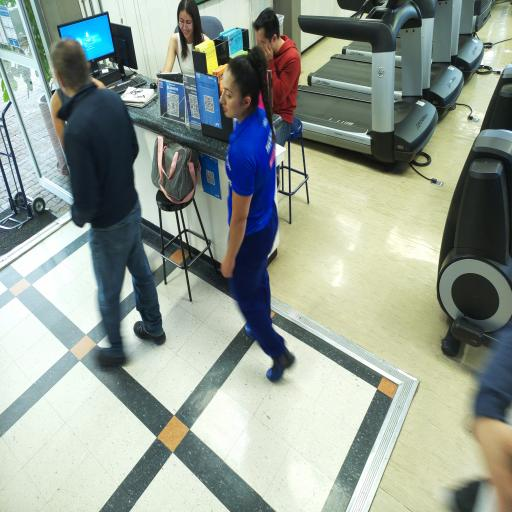person: (51, 39, 165, 365), (221, 46, 294, 381), (441, 323, 511, 511), (253, 8, 300, 145), (163, 0, 208, 75), (51, 87, 69, 149)
